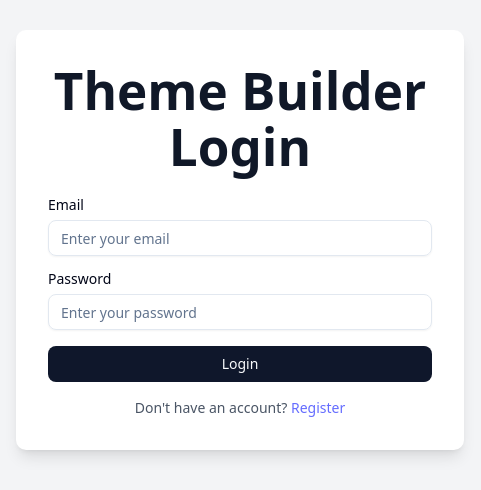
Test: LoginForm › Form Validation › shows error when password is empty
Type "test@example.com" into the field labelled "Email".
click(240, 238); type("test@example.com")  # box x1=48 y1=220 x2=432 y2=256
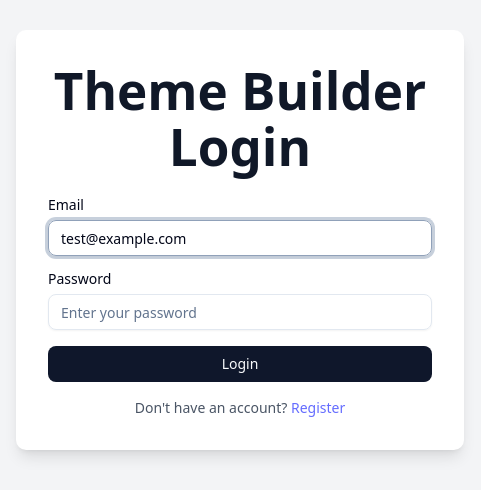
Click the button "Login".
click(240, 364)  # box x1=48 y1=346 x2=432 y2=382
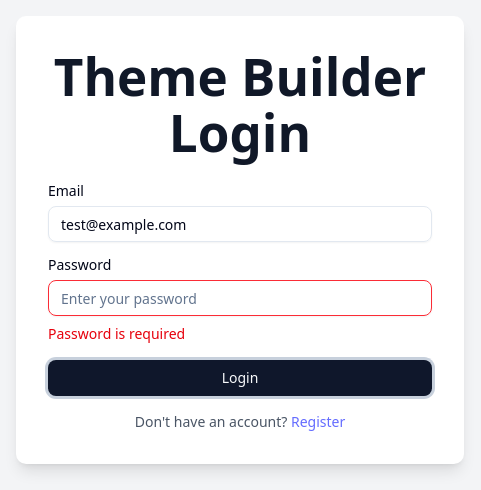
Expected: the text "Password is required" is shown, x1=48 y1=324 x2=185 y2=343
